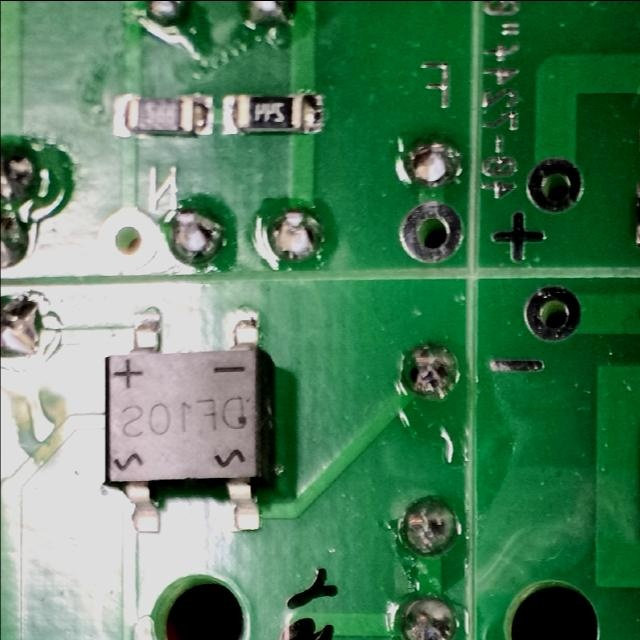chip-resistor: (220, 89, 328, 139), (111, 91, 216, 140)
ic: (98, 303, 282, 539)
